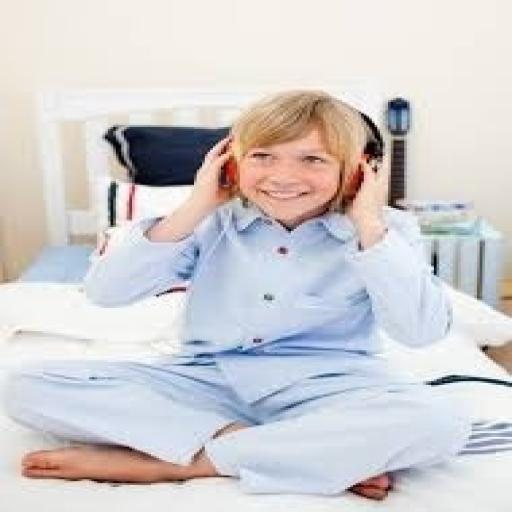listening_to_music: (14, 86, 510, 502)
